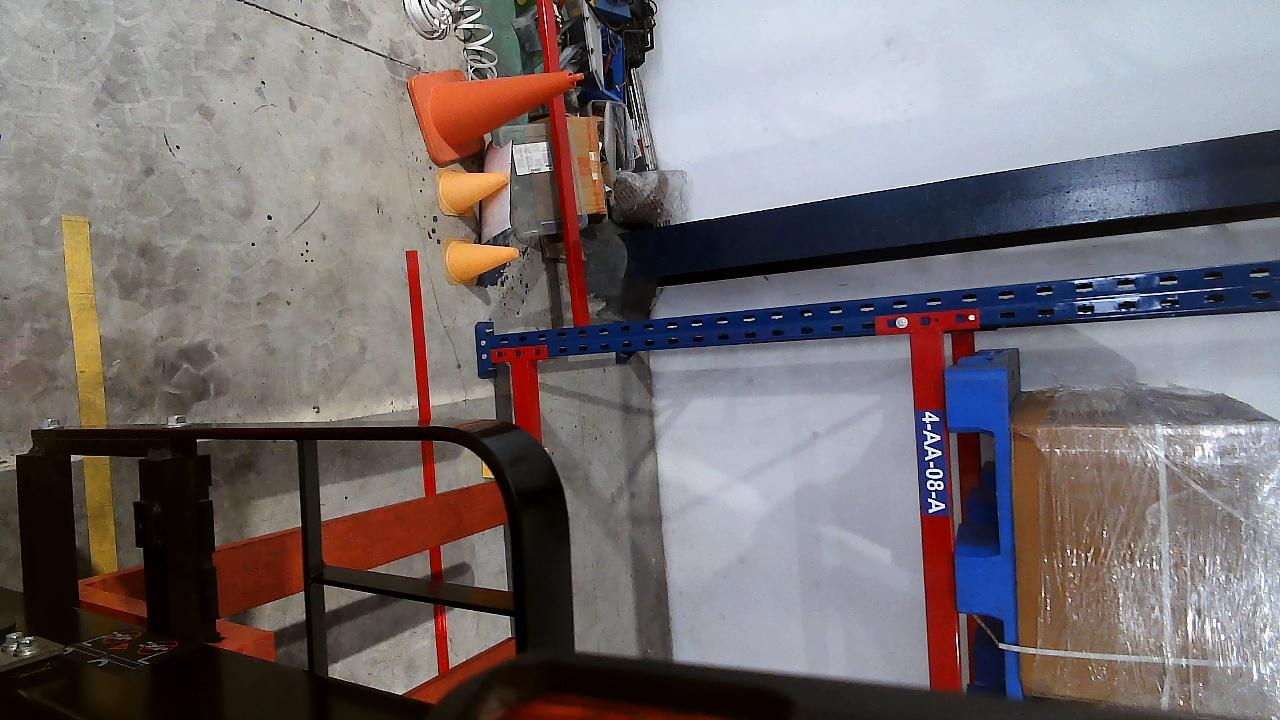h_rack: (907, 327, 963, 689)
red_line: (404, 250, 447, 494)
small_pallet: (947, 343, 1022, 680)
yellow_line: (60, 214, 122, 571)
